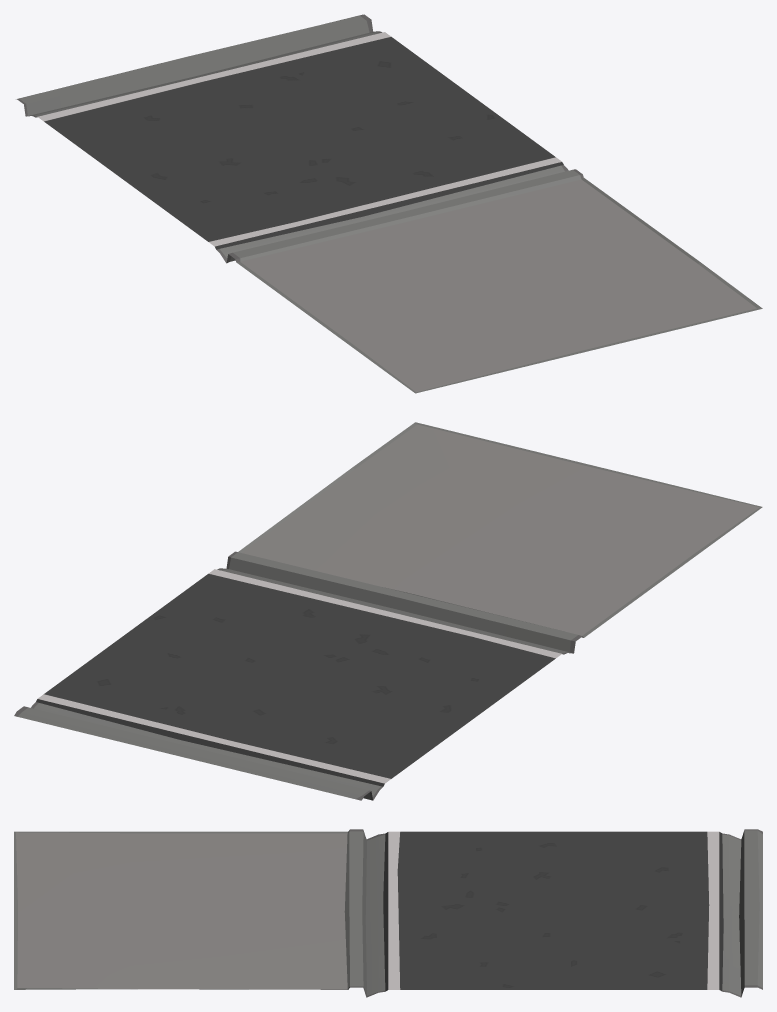
File: SM_Env_Drive_Thru_Straight_01.obj
The picture shows the model from 3 angles, top to bottom: view 1: azimuth 30°, elevation 25°; view 2: azimuth 150°, elevation 25°; view 3: azimuth 270°, elevation 25°; orthographic projection. The views are drawn at different scales.
Visible parts, largest first — view 1: SM_Env_Drive_Thru_Straight_01_0; view 2: SM_Env_Drive_Thru_Straight_01_0; view 3: SM_Env_Drive_Thru_Straight_01_0.
Part boxes in pixels (left/top/right/bottom): SM_Env_Drive_Thru_Straight_01_0: left=16, top=14, right=762, bottom=393; SM_Env_Drive_Thru_Straight_01_0: left=14, top=422, right=762, bottom=800; SM_Env_Drive_Thru_Straight_01_0: left=14, top=829, right=762, bottom=997.
Size of the model in its own units: 5 by 0.15 by 10.
Materials: 1 (1 with a texture image).
